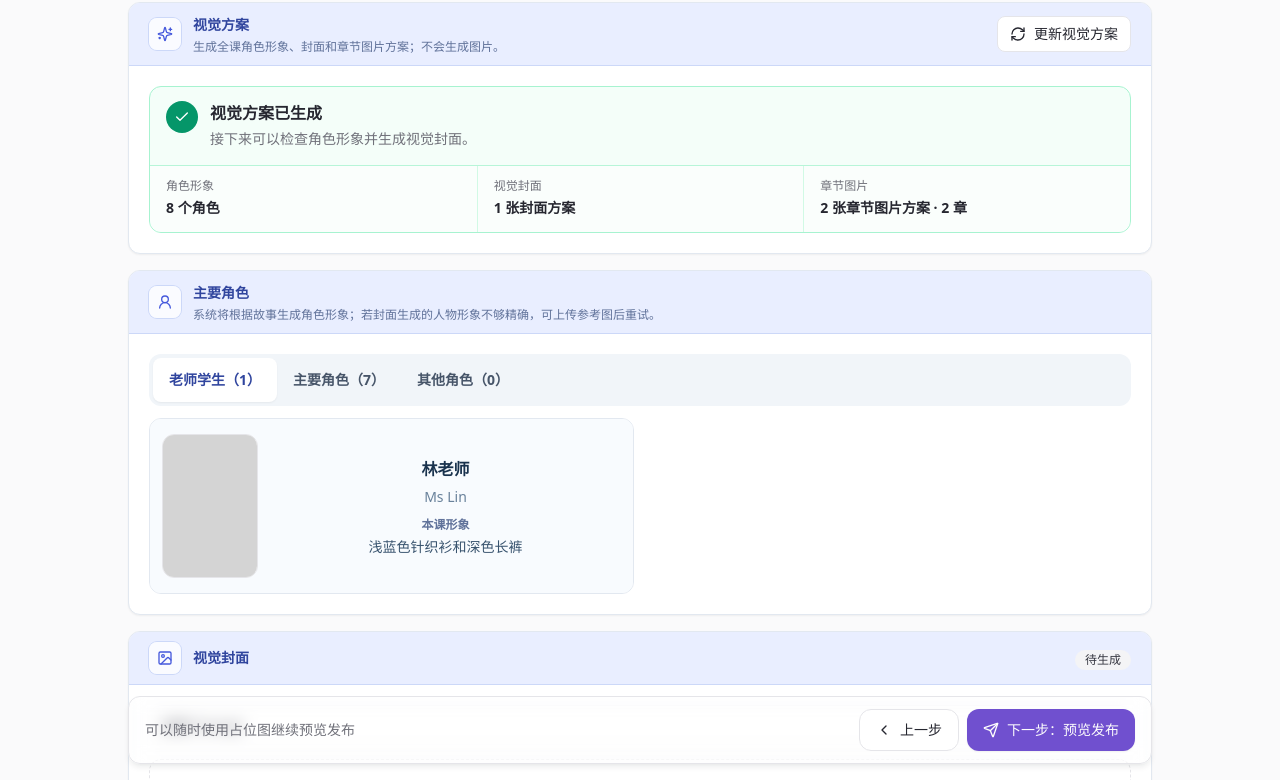
Test case: Step 5 视觉资源工作区 › 角色卡片文字居中，每页最多六张且不提供搜索
The image size is (1280, 780).
(page scrolled)
Click the tab "主要角色（7）" at (339, 380), box [277,358,401,402]
(page scrolled)
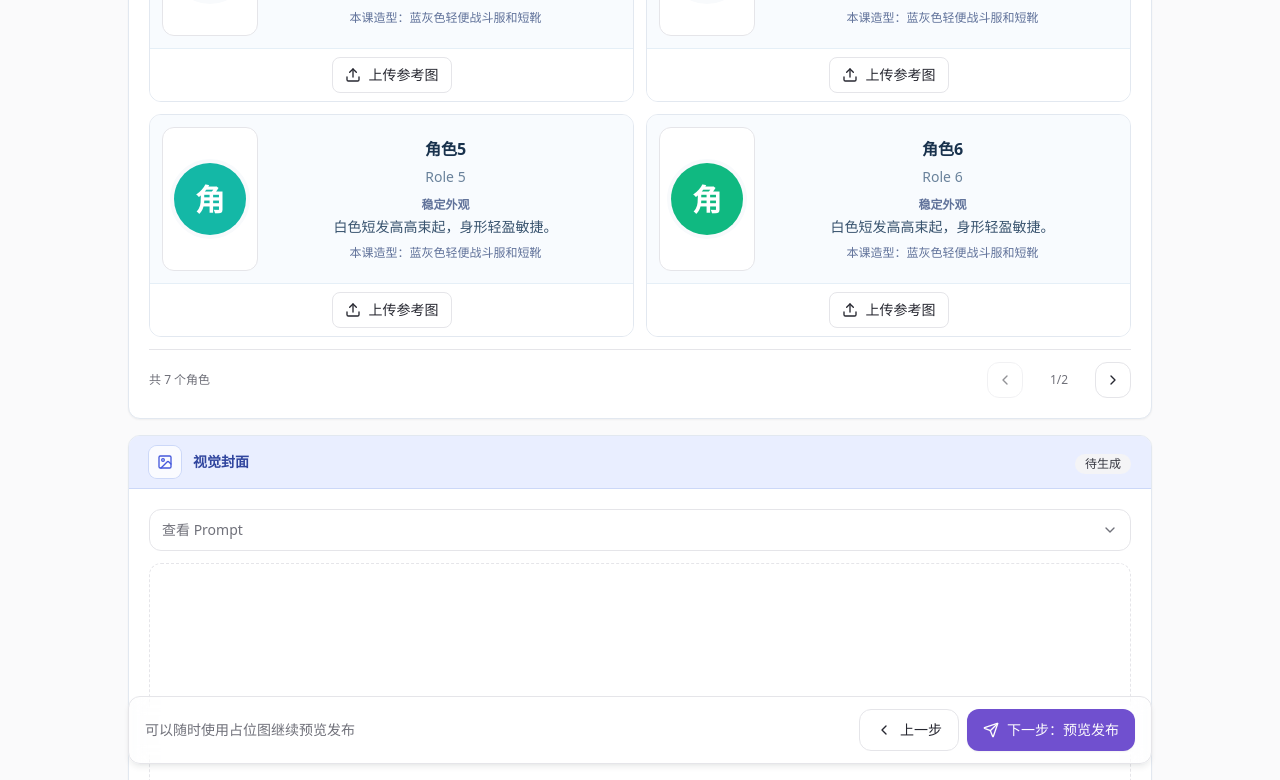
Expected: the text "角色7" is not shown
Now the heading "角色6" is shown, box [922,135,963,163]
Click the button named "下一页角色" at (1113, 380), box [1095,362,1131,398]
(page scrolled)
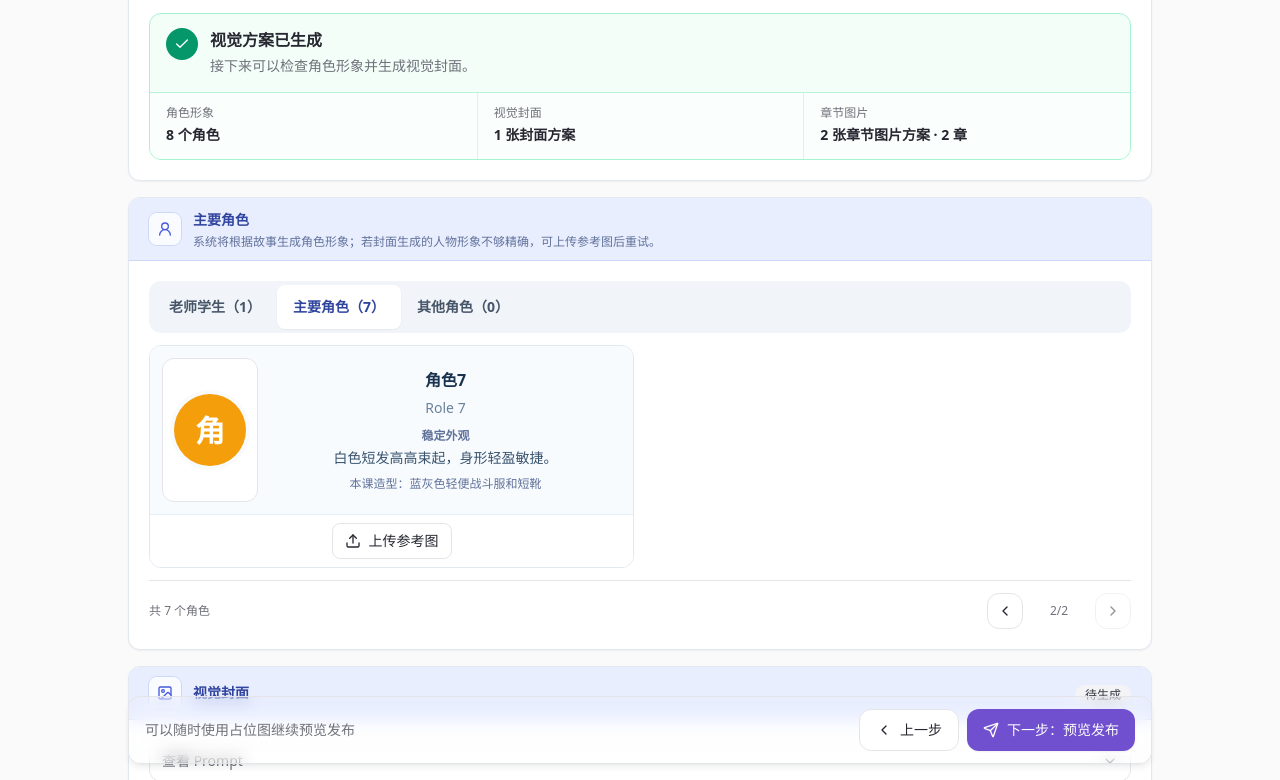
Now the heading "角色7" is shown, box [425,366,466,394]
